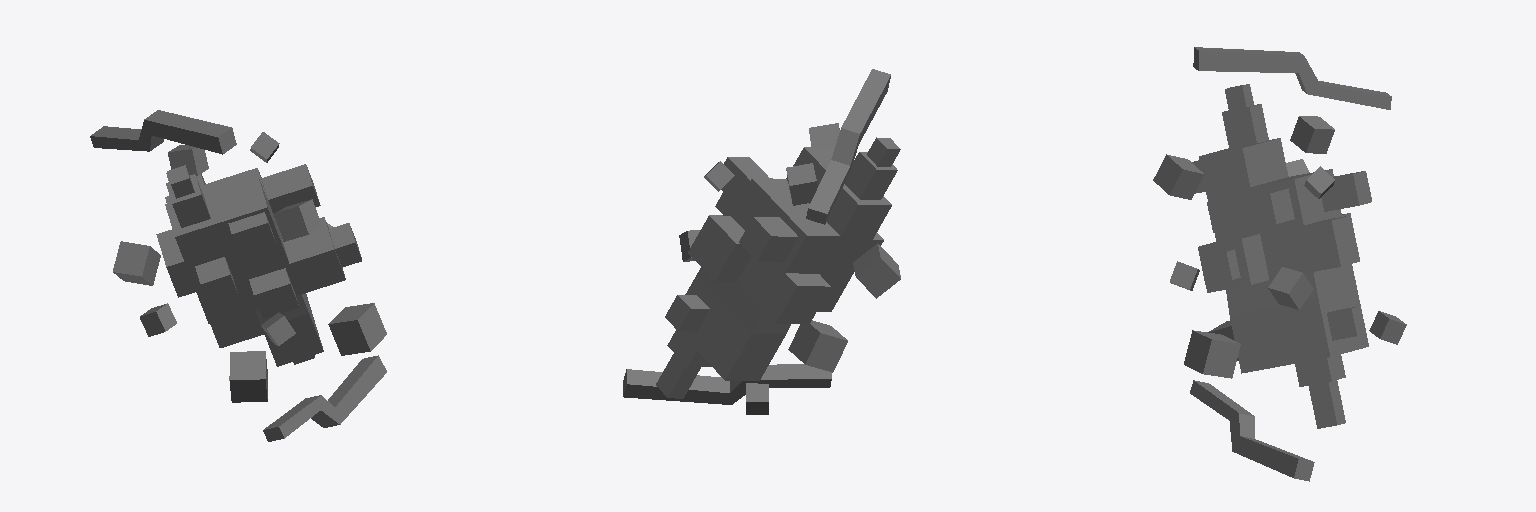
File: Virus_Pickup.obj
The picture shows the model from 3 angles: view 1: azimuth 30°, elevation 25°; view 2: azimuth 150°, elevation 25°; view 3: azimuth 270°, elevation 25°; orthographic projection.
Parts seen in each view (by area): view 1: pCube1, pCube11, pasted__pCube11group, pCube2, pCube10, pCube7, pCube6, pCube4, pCube3, pCube8; view 2: pCube1, pasted__pCube11group, pCube11, pCube10, pCube7, pCube4, pCube3, pCube6; view 3: pCube1, pCube11, pasted__pCube11group, pCube2, pCube6, pCube4, pCube5, pCube3, pCube9, pCube8.
Boxes of the visible parts, box(x1,y1,x2,y2) form: pCube1: box(156, 164, 361, 366); pCube11: box(90, 110, 236, 154); pasted__pCube11group: box(263, 355, 386, 441); pCube2: box(328, 303, 386, 355); pCube10: box(229, 351, 267, 402); pCube7: box(113, 241, 160, 285); pCube6: box(274, 199, 322, 241); pCube4: box(168, 145, 208, 175); pCube3: box(140, 303, 176, 336); pCube8: box(261, 312, 295, 345); pCube1: box(656, 137, 900, 398); pasted__pCube11group: box(623, 364, 831, 404); pCube11: box(806, 69, 890, 224); pCube10: box(788, 320, 847, 372); pCube7: box(853, 243, 900, 298); pCube4: box(786, 163, 817, 205); pCube3: box(746, 383, 768, 414); pCube6: box(809, 123, 839, 147); pCube1: box(1192, 84, 1371, 428); pCube11: box(1193, 47, 1391, 109); pasted__pCube11group: box(1190, 380, 1314, 481); pCube2: box(1184, 330, 1240, 378); pCube6: box(1153, 154, 1204, 199); pCube4: box(1290, 116, 1334, 153); pCube5: box(1268, 267, 1313, 309); pCube3: box(1369, 311, 1406, 344); pCube9: box(1304, 166, 1334, 198); pCube8: box(1170, 261, 1199, 290).
Bounding box in the file's own units: 8.07 × 9.67 × 6.41.